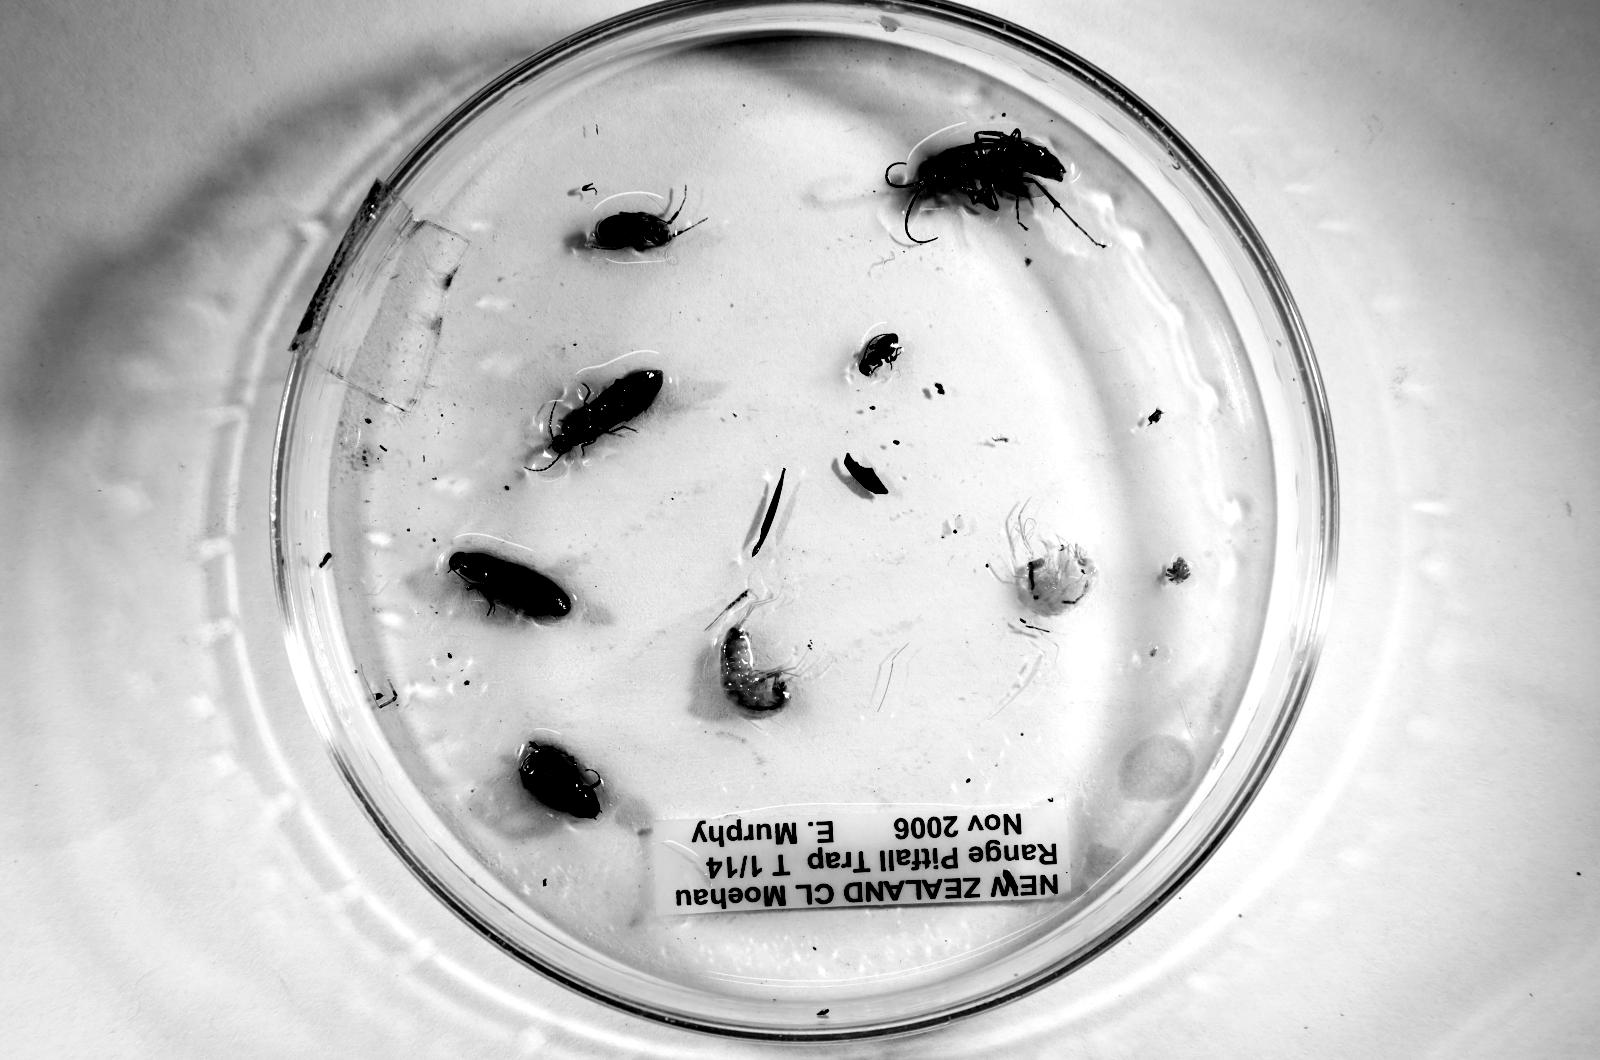amphipoda: (719, 602, 797, 717), (1025, 540, 1099, 615)
coleoptera: (550, 370, 663, 457), (448, 552, 571, 617), (520, 742, 601, 818), (858, 333, 901, 376)
hymenoptera: (888, 129, 1067, 221)
opiliones: (597, 211, 675, 248)
